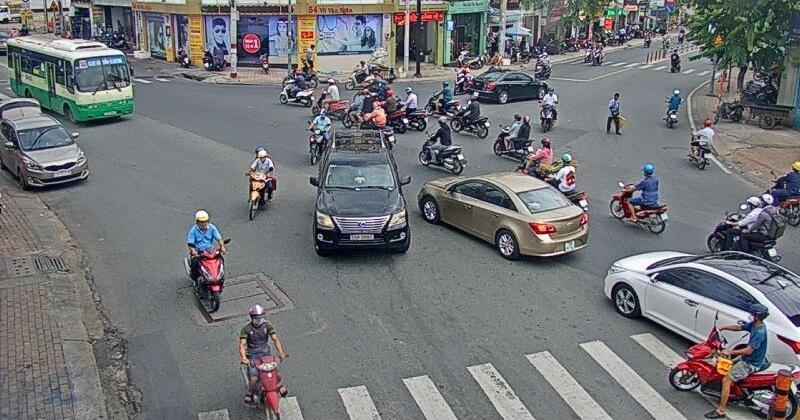xe buyt: (8, 35, 132, 118)
xe hoi: (603, 251, 800, 365), (417, 170, 589, 262), (308, 150, 412, 256), (0, 114, 88, 190), (469, 70, 549, 104)
xe may: (238, 304, 287, 420), (706, 193, 783, 261), (183, 209, 232, 311), (609, 163, 668, 235), (418, 117, 466, 174), (246, 146, 276, 220), (449, 94, 490, 139), (492, 113, 534, 155), (312, 78, 350, 118), (306, 108, 332, 165), (278, 72, 315, 108), (690, 117, 713, 170), (538, 87, 558, 132), (662, 89, 682, 127)
